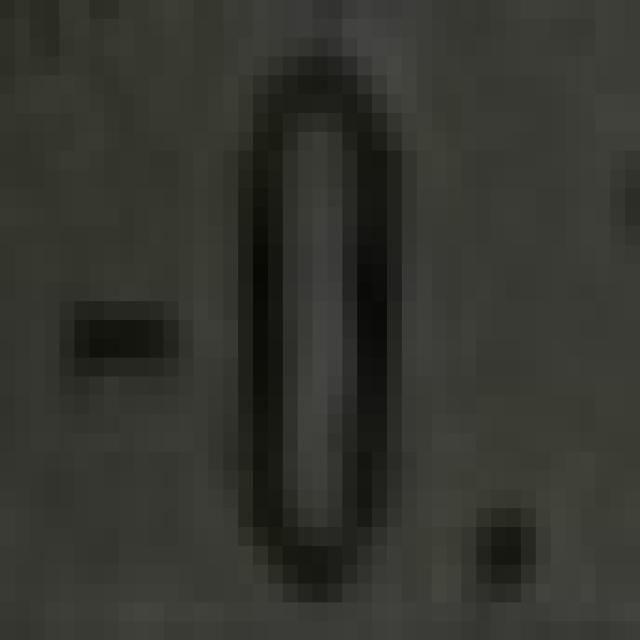-: (48, 271, 206, 395)
.: (454, 484, 560, 616)
0: (218, 41, 414, 622)
